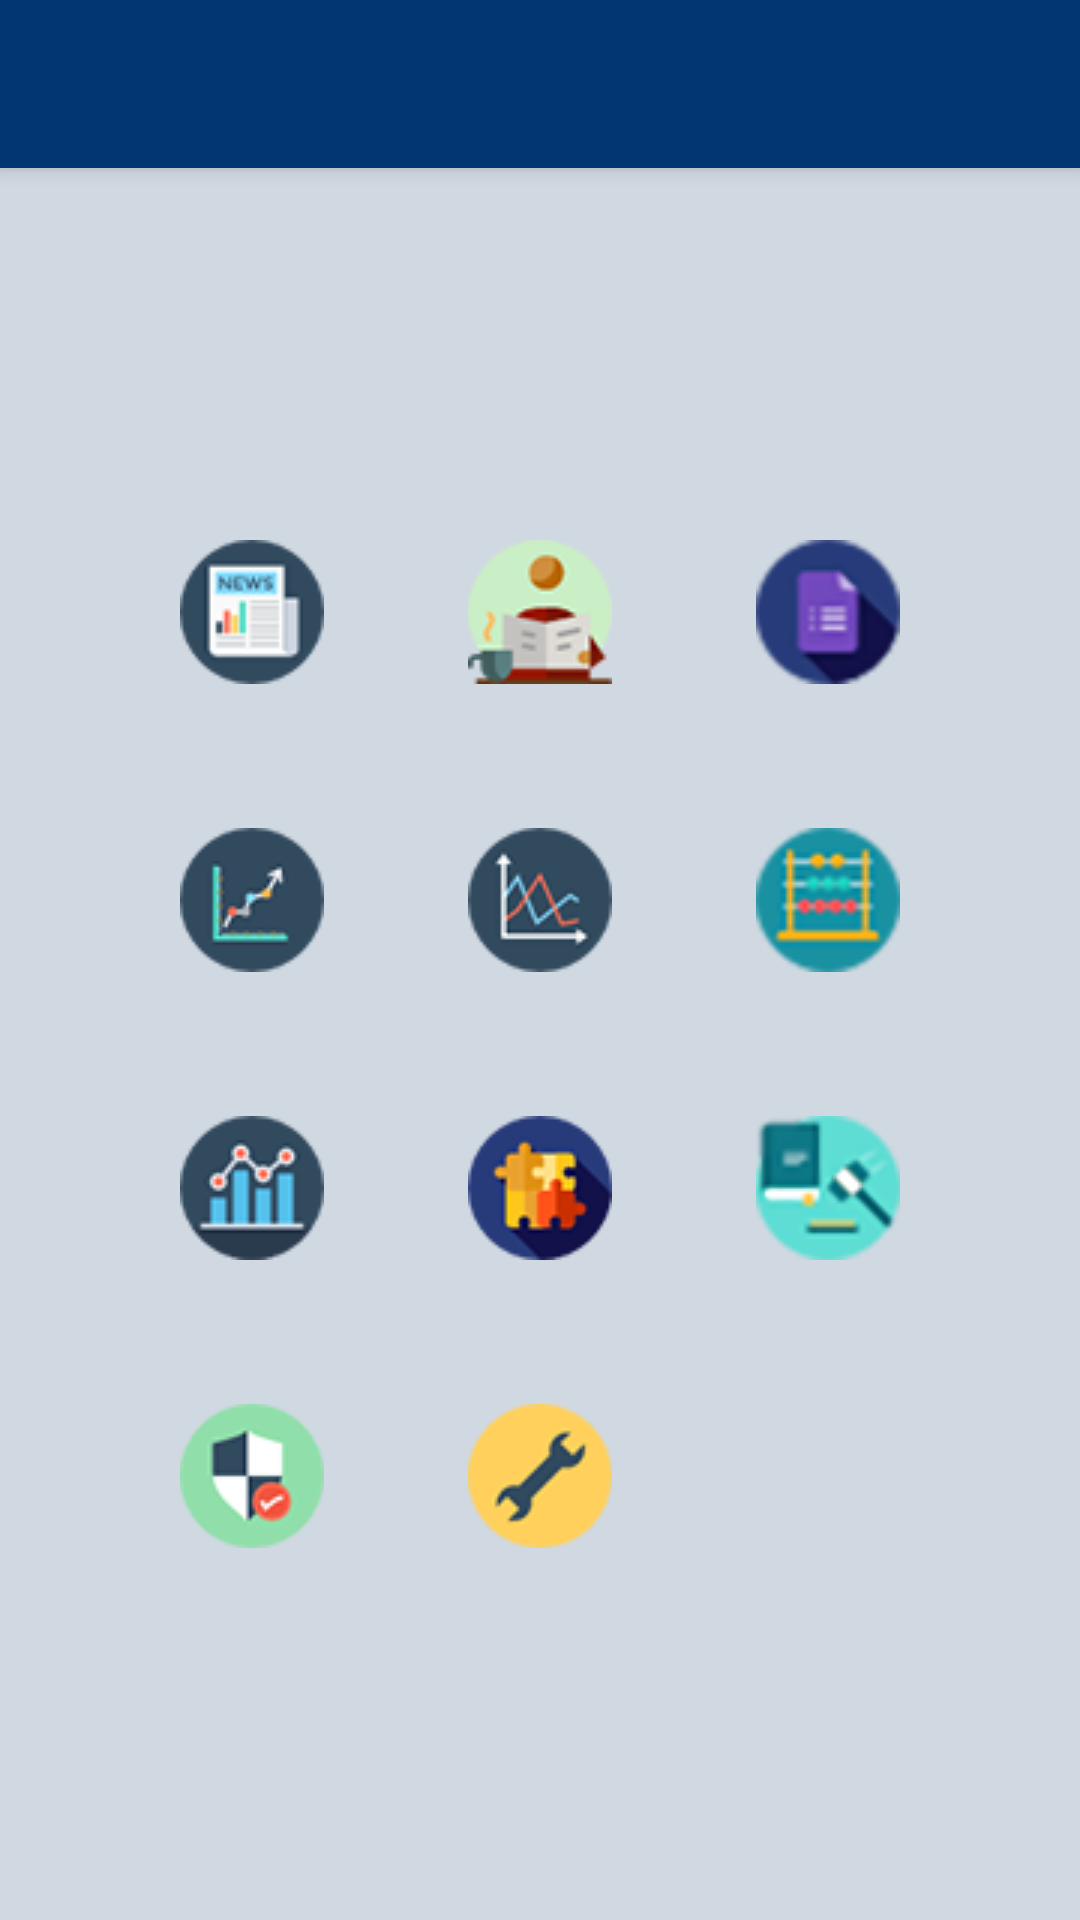

Locate icon controls on the screen. Image size 1080*1920, boxes as (x1, y1, x2, y2).
game very: (468, 1116, 612, 1260)
newspaper very: (180, 540, 324, 684)
press very: (468, 540, 612, 684)
rules very: (756, 1116, 900, 1260)
settings very: (468, 1404, 612, 1548)
